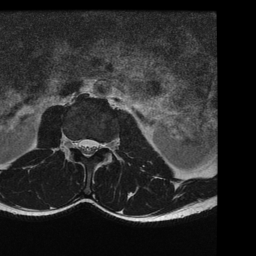CCS_normal: (84, 131, 91, 163)
LFS_normal: (99, 133, 107, 156)
LLS_normal: (91, 131, 98, 159)
RFS_normal: (68, 130, 76, 156)
RLS_normal: (76, 132, 84, 159)
